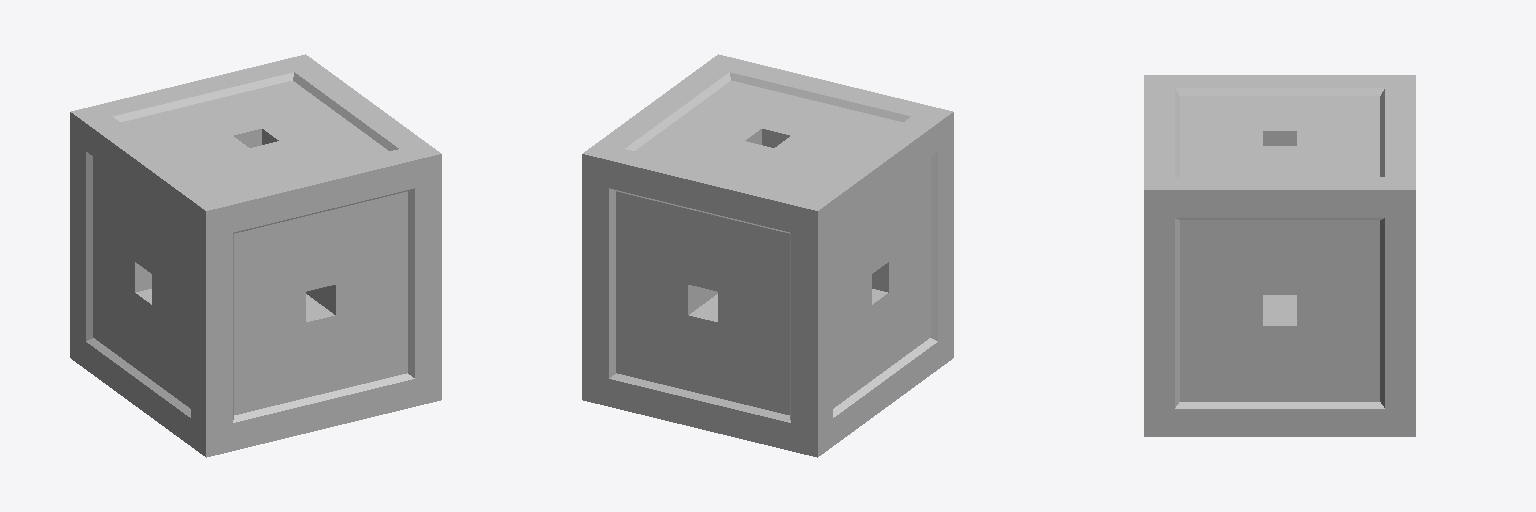
Rendered from cratelookingthing.obj.
3 views of the same model, side by side, from view 1: azimuth 30°, elevation 25°; view 2: azimuth 150°, elevation 25°; view 3: azimuth 270°, elevation 25° (orthographic).
Parts seen in each view (by area): view 1: Cube; view 2: Cube; view 3: Cube.
Boxes of the visible parts, x1,y1,x2,y2 form: Cube: [70, 54, 441, 457]; Cube: [582, 54, 953, 457]; Cube: [1144, 75, 1415, 436].
Bounding box in the file's own units: 1 × 1 × 1.